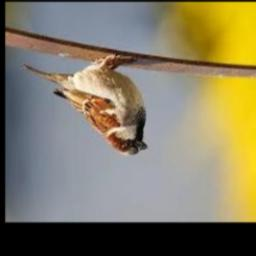Sparrow: (23, 53, 148, 156)
